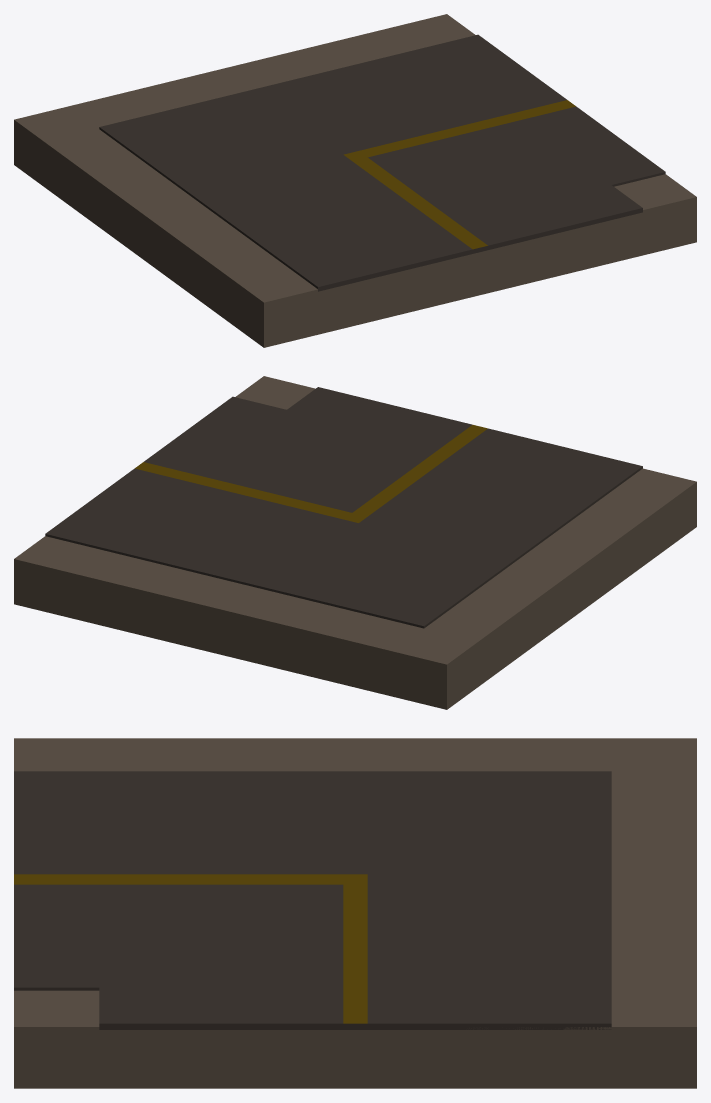
Rendered from road-turn.glb.
The picture shows the model from 3 angles, top to bottom: view 1: azimuth 30°, elevation 25°; view 2: azimuth 150°, elevation 25°; view 3: azimuth 270°, elevation 25°; orthographic projection. The views are drawn at different scales.
Parts seen in each view (by area): view 1: road-turn; view 2: road-turn; view 3: road-turn.
Boxes of the visible parts, x1,y1,x2,y2 form: road-turn: [14, 14, 696, 347]; road-turn: [14, 376, 696, 709]; road-turn: [14, 738, 696, 1088].
Size of the model in its own units: 1 by 0.105 by 1.
